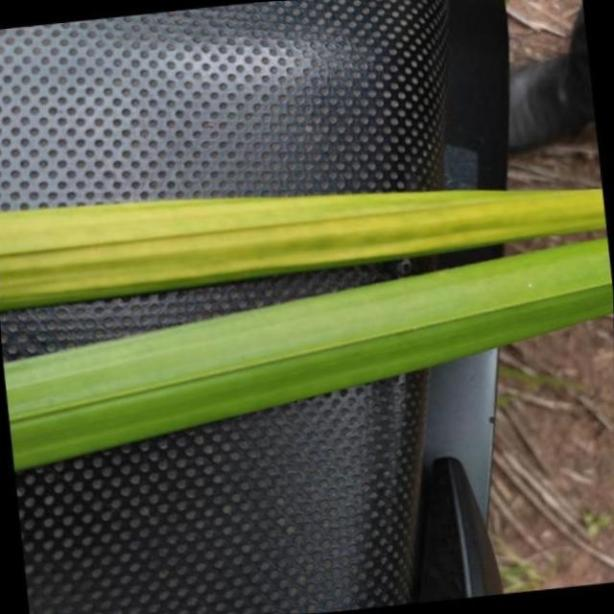nitrogen: (0, 234, 614, 474), (0, 180, 614, 308)
